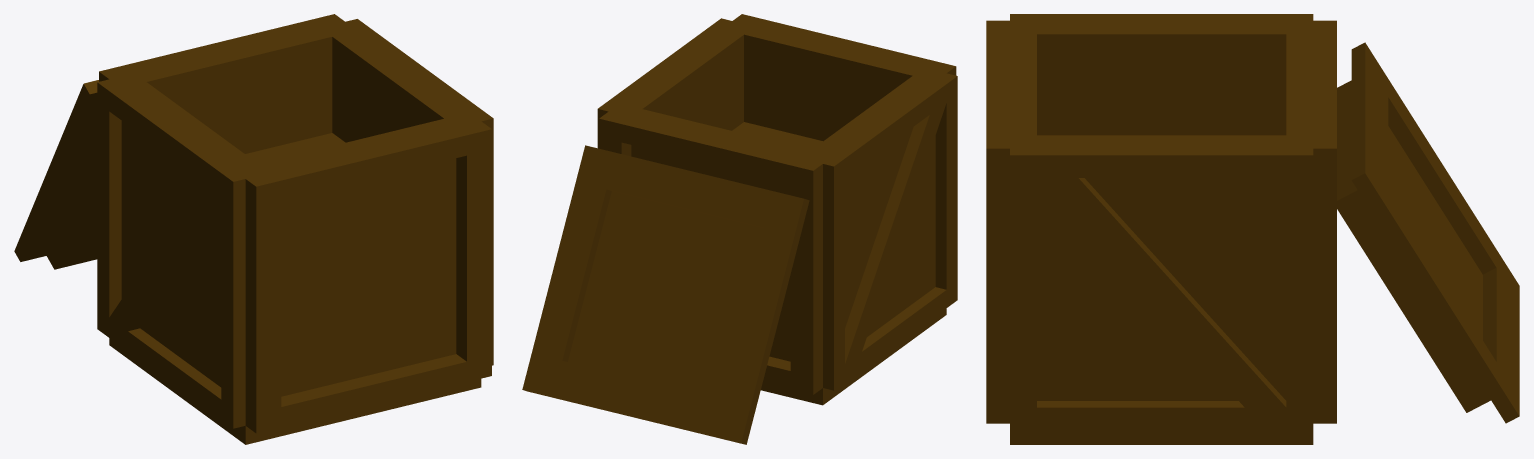
Rendered from caja_sin_tapa.fbx.
3 views of the same model, side by side, from view 1: azimuth 30°, elevation 25°; view 2: azimuth 150°, elevation 25°; view 3: azimuth 270°, elevation 25° (orthographic). The views are drawn at different scales.
Parts seen in each view (by area): view 1: polySurface8, polySurface7; view 2: polySurface8, polySurface7; view 3: polySurface8, polySurface7.
Boxes of the visible parts, x1,y1,x2,y2 form: polySurface8: [97, 14, 493, 444]; polySurface7: [14, 80, 98, 269]; polySurface8: [597, 14, 957, 405]; polySurface7: [522, 145, 809, 444]; polySurface8: [986, 14, 1336, 444]; polySurface7: [1337, 42, 1519, 423].
Bounding box in the file's own units: 4.25 × 4.15 × 6.77.
